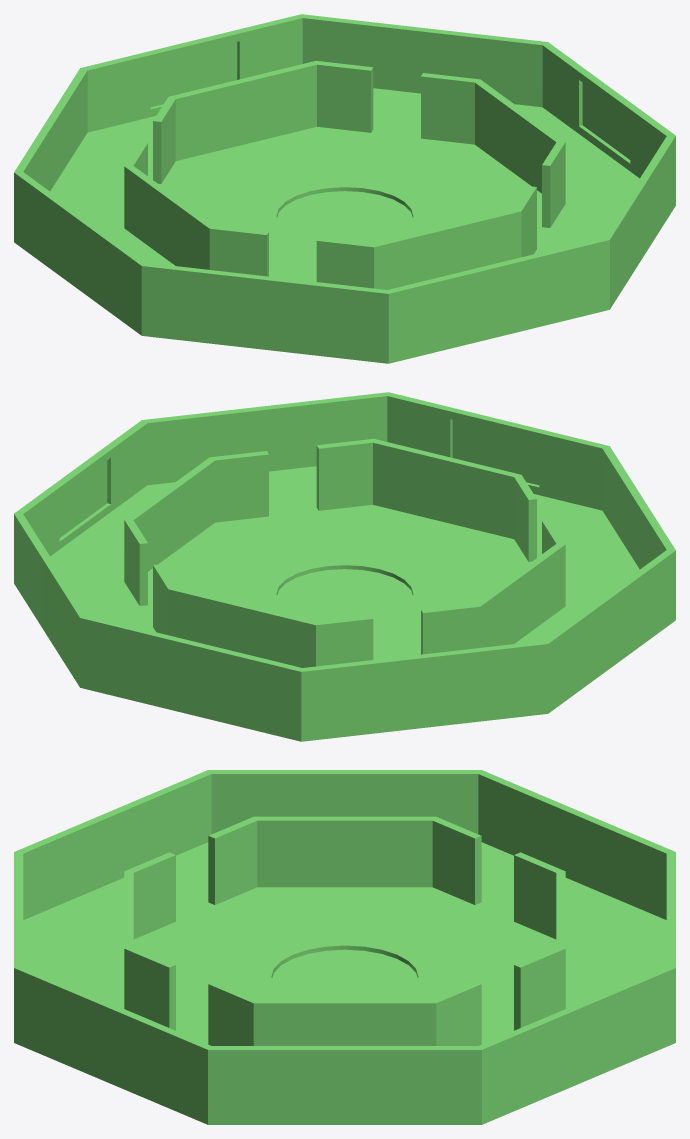
File: roomsplit.gltf
3 views of the same model, one above another, from view 1: azimuth 30°, elevation 25°; view 2: azimuth 150°, elevation 25°; view 3: azimuth 270°, elevation 25° (orthographic). The views are drawn at different scales.
Visible parts, largest first — view 1: room v1.001, room v1; view 2: room v1.001, room v1; view 3: room v1.001, room v1.
Part boxes in pixels (x1=…): room v1.001: x1=14, y1=14, x2=675, y2=363; room v1: x1=50, y1=88, x2=639, y2=281; room v1.001: x1=14, y1=392, x2=675, y2=741; room v1: x1=50, y1=466, x2=639, y2=659; room v1.001: x1=14, y1=770, x2=675, y2=1124; room v1: x1=23, y1=842, x2=666, y2=1044.
Size of the model in its own units: 72 by 9 by 72.
